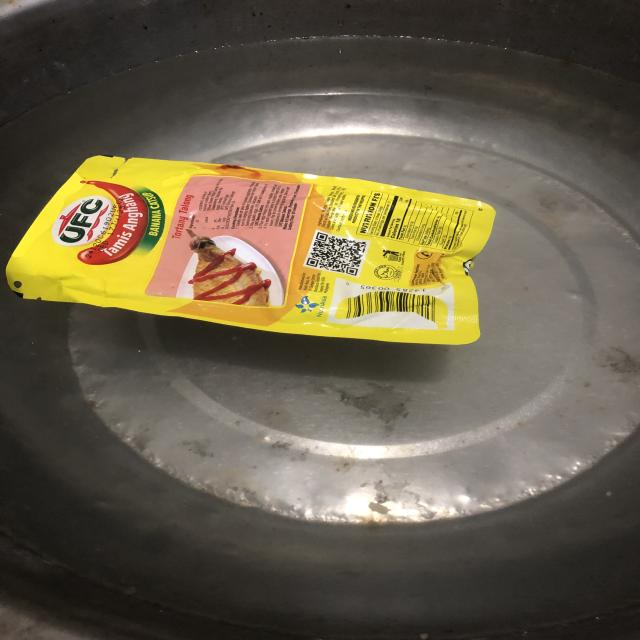Plastic Pouch: (0, 141, 516, 357)
